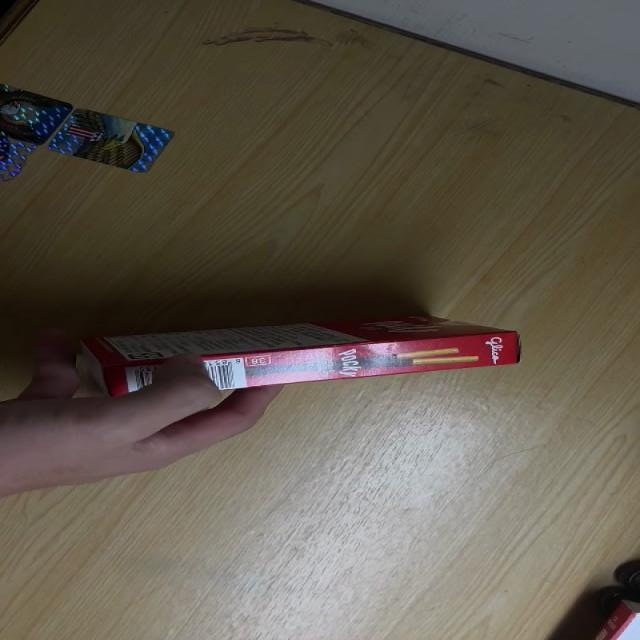Pocky: (70, 312, 523, 398)
